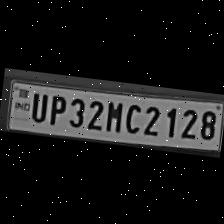1: (159, 102, 180, 138)
2: (139, 100, 164, 136), (176, 103, 200, 140), (82, 94, 106, 130)
3: (62, 92, 86, 128)
8: (194, 104, 218, 140)
C: (120, 98, 142, 134)
M: (101, 96, 125, 132)
P: (44, 89, 68, 126)
U: (25, 87, 48, 122)
